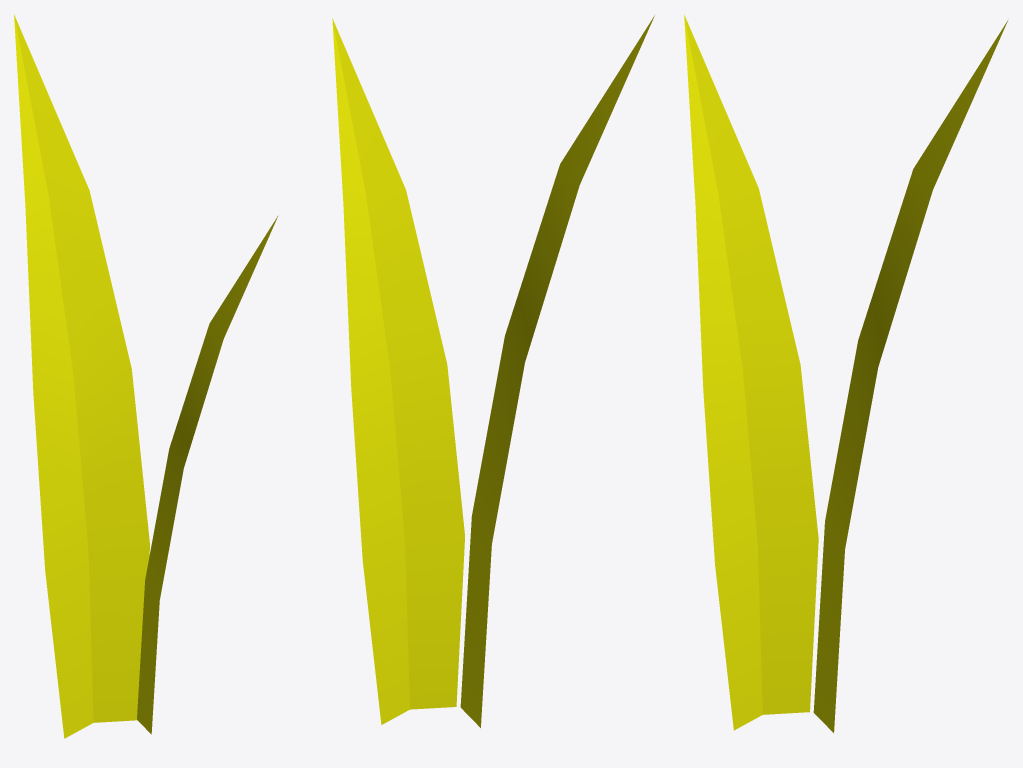
The model's file is kaykit-grass-2-b-singlesided-color-1.glb.
3 views of the same model, side by side, from view 1: azimuth 30°, elevation 25°; view 2: azimuth 150°, elevation 25°; view 3: azimuth 270°, elevation 25° (orthographic). The views are drawn at different scales.
Visible parts, largest first — view 1: Grass_2_B_Singlesided_Color1; view 2: Grass_2_B_Singlesided_Color1; view 3: Grass_2_B_Singlesided_Color1.
Part boxes in pixels (x1,y1,x2,y2): Grass_2_B_Singlesided_Color1: (14, 14, 278, 738); Grass_2_B_Singlesided_Color1: (332, 15, 654, 727); Grass_2_B_Singlesided_Color1: (684, 14, 1007, 732).
Size of the model in its own units: 0.3841 by 0.9188 by 0.3783.
